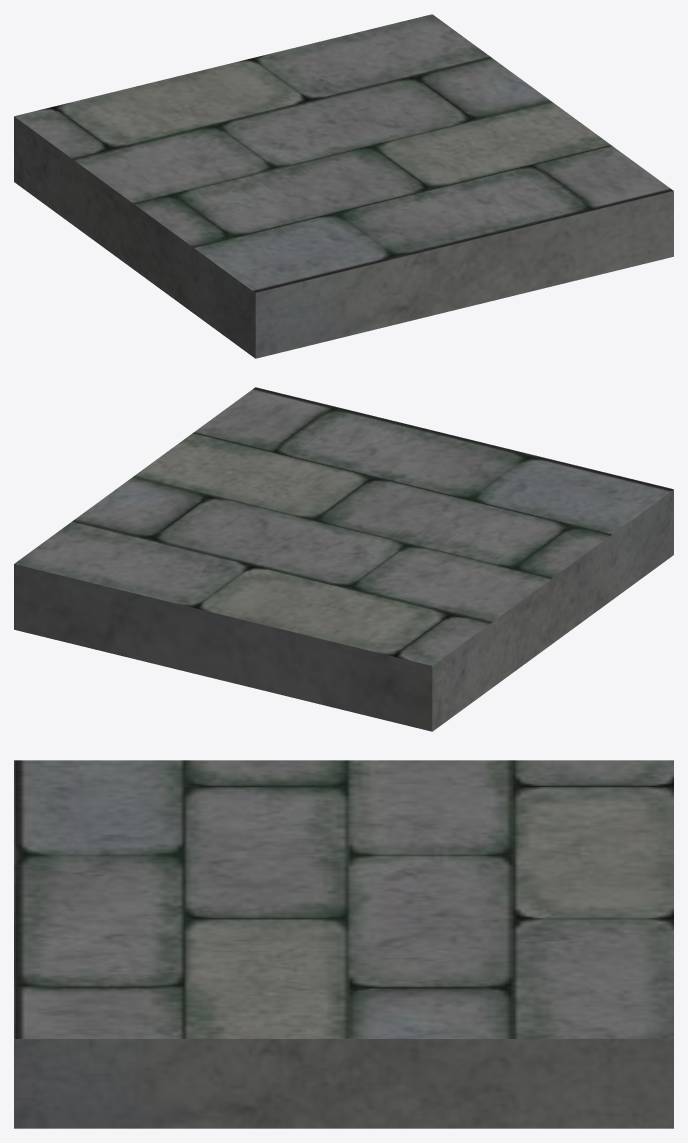
The model's file is floor_small_01.glb.
3 renders of one model, top to bottom at view 1: azimuth 30°, elevation 25°; view 2: azimuth 150°, elevation 25°; view 3: azimuth 270°, elevation 25°, orthographic. The views are drawn at different scales.
Parts seen in each view (by area): view 1: floor_small_01; view 2: floor_small_01; view 3: floor_small_01.
Boxes of the visible parts, x1,y1,x2,y2 form: floor_small_01: (14,14,673,358); floor_small_01: (14,387,673,731); floor_small_01: (14,760,673,1128).
Bounding box in the file's own units: 2 × 0.3 × 2.
Materials: 1 (1 with a texture image).
